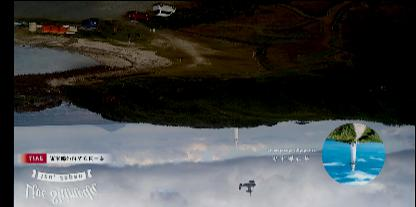Tornado: (237, 179, 255, 197)
